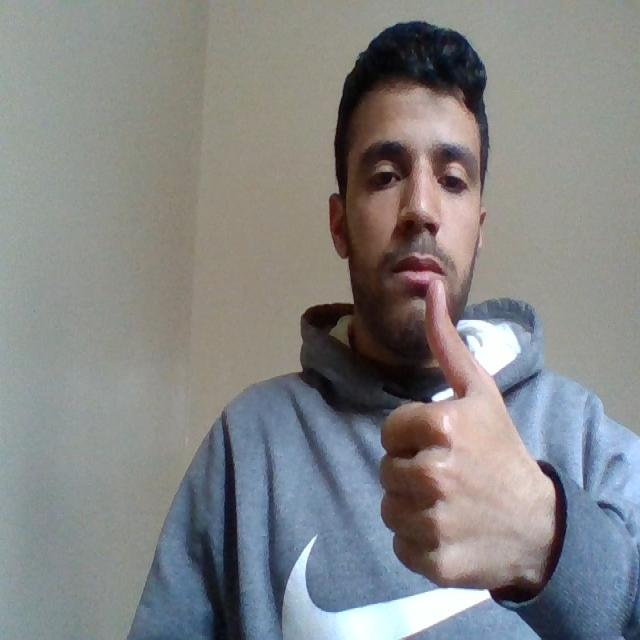Yes: (375, 274, 564, 594)
